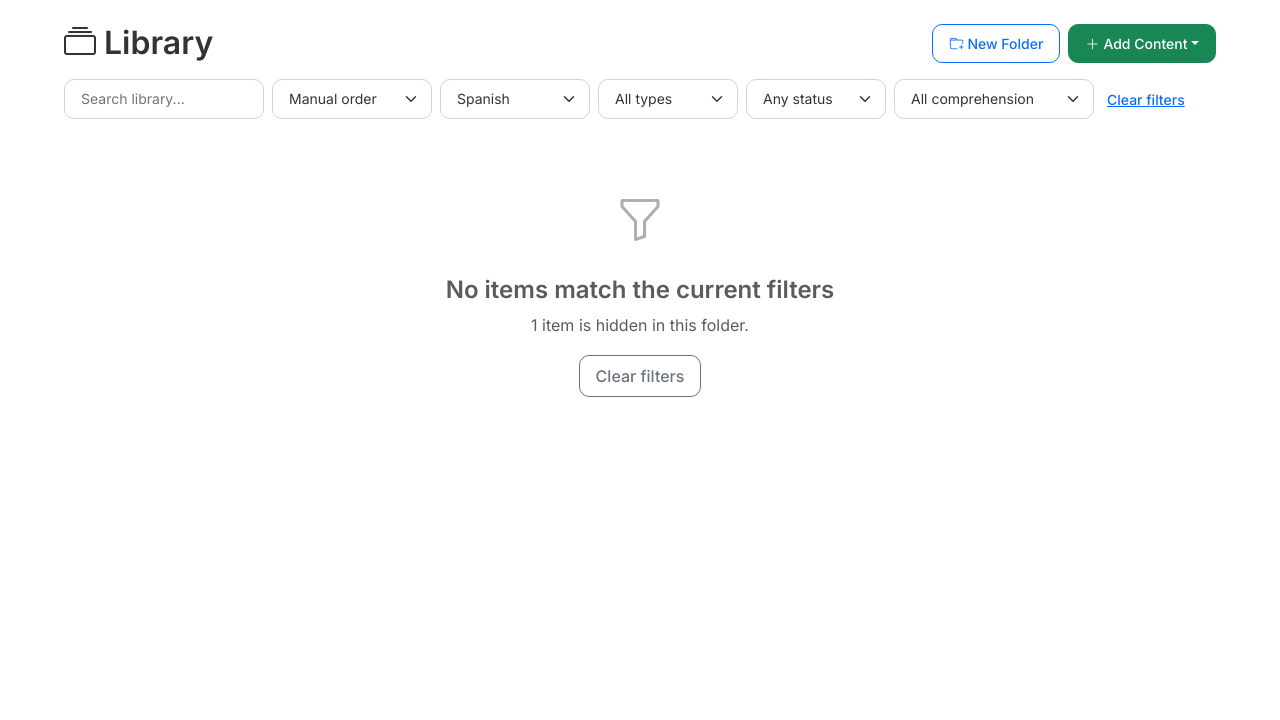
Scenario: Library › filters that hide everything › a saved language missing from this folder stays visible and can be cleared
This screenshot has width=1280, height=720.
Check: the heading "No items match the current filters" is shown, box 446,275 -> 834,304
Check: the dropdown named "Language filter" shows "Spanish", box 440,79 -> 590,119
Click the 1st button "Clear filters" at (1146, 99), box 1102,80 -> 1190,119
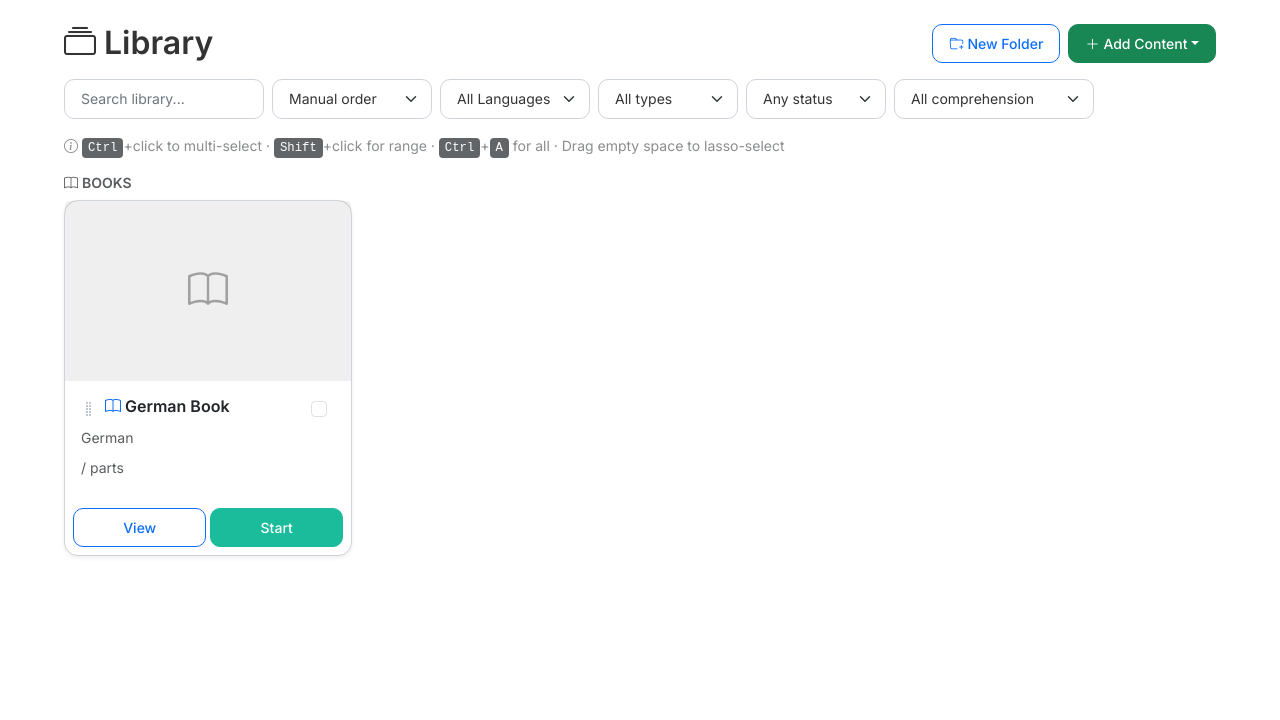
Check: the heading "German Book" is shown, box 105,396 -> 230,416
Check: the dropdown named "Language filter" shows "All Languages", box 440,79 -> 590,119
